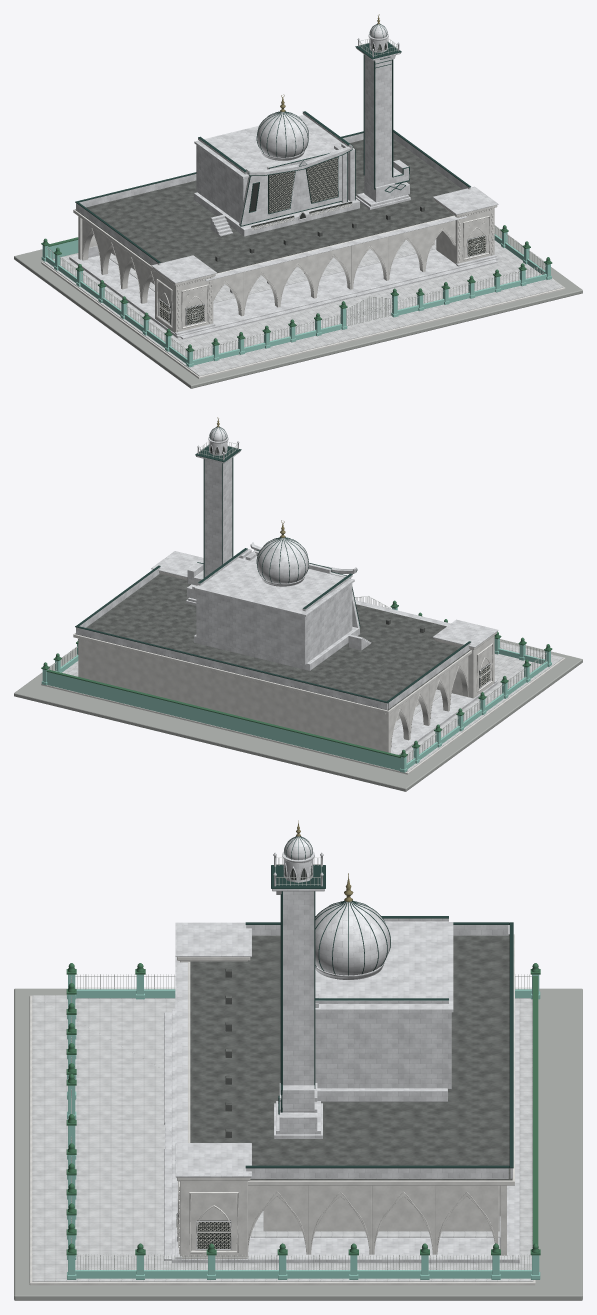
The model's file is sector-6-mosque-web.glb.
The picture shows the model from 3 angles, top to bottom: view 1: azimuth 30°, elevation 25°; view 2: azimuth 150°, elevation 25°; view 3: azimuth 270°, elevation 25°; orthographic projection. The views are drawn at different scales.
Visible parts, largest first — view 1: mesh__foundation, mesh__terrace, mesh__upper_hall, mesh__site, mesh__front_arcade, mesh__boundary_front, mesh__upper_front, mesh__minaret_shaft, mesh__left_pavilion, mesh__right_pavilion, mesh__boundary_left, mesh__main_dome (+7 smaller); view 2: mesh__terrace, mesh__upper_hall, mesh__prayer_hall, mesh__site, mesh__foundation, mesh__boundary_rear, mesh__minaret_shaft, mesh__left_pavilion, mesh__boundary_left, mesh__main_dome, mesh__left_arcade, mesh__minaret_crown (+4 smaller); view 3: mesh__foundation, mesh__terrace, mesh__site, mesh__upper_hall, mesh__boundary_right, mesh__right_pavilion, mesh__right_arcade, mesh__minaret_shaft, mesh__prayer_hall, mesh__main_dome, mesh__left_pavilion, mesh__boundary_front (+5 smaller).
Part boxes in pixels (box(x1,y1,x2,y2)): mesh__foundation: box(41, 240, 565, 378); mesh__terrace: box(73, 130, 470, 274); mesh__upper_hall: box(194, 111, 359, 236); mesh__site: box(14, 226, 582, 388); mesh__front_arcade: box(205, 216, 467, 316); mesh__boundary_front: box(186, 257, 552, 367); mesh__upper_front: box(239, 143, 355, 230); mesh__minaret_shaft: box(363, 54, 409, 189); mesh__left_pavilion: box(151, 255, 216, 334); mesh__right_pavilion: box(432, 186, 498, 266); mesh__boundary_left: box(41, 238, 187, 363); mesh__main_dome: box(256, 111, 308, 160); mesh__terrace: box(73, 565, 471, 713); mesh__upper_hall: box(194, 548, 359, 670); mesh__prayer_hall: box(78, 638, 441, 752); mesh__site: box(14, 639, 582, 791); mesh__foundation: box(41, 642, 565, 774); mesh__boundary_rear: box(46, 669, 400, 770); mesh__minaret_shaft: box(187, 457, 233, 585); mesh__left_pavilion: box(432, 619, 498, 698); mesh__boundary_left: box(399, 652, 547, 772); mesh__main_dome: box(256, 537, 308, 586); mesh__left_arcade: box(390, 656, 468, 752); mesh__minaret_crown: box(195, 417, 241, 463); mesh__foundation: box(29, 995, 535, 1285); mesh__terrace: box(188, 922, 514, 1185); mesh__site: box(14, 988, 582, 1300); mesh__upper_hall: box(315, 916, 453, 1101); mesh__boundary_right: box(75, 1243, 540, 1279); mesh__right_pavilion: box(175, 1143, 251, 1259); mesh__right_arcade: box(248, 1185, 498, 1254); mesh__minaret_shaft: box(280, 891, 315, 1112); mesh__prayer_hall: box(251, 1185, 506, 1255); mesh__main_dome: box(315, 900, 390, 979); mesh__left_pavilion: box(175, 922, 251, 962); mesh__boundary_front: box(66, 963, 76, 1279).
Bounding box in the file's own units: 46 × 27.19 × 36.
Materials: 12 (4 with a texture image).
